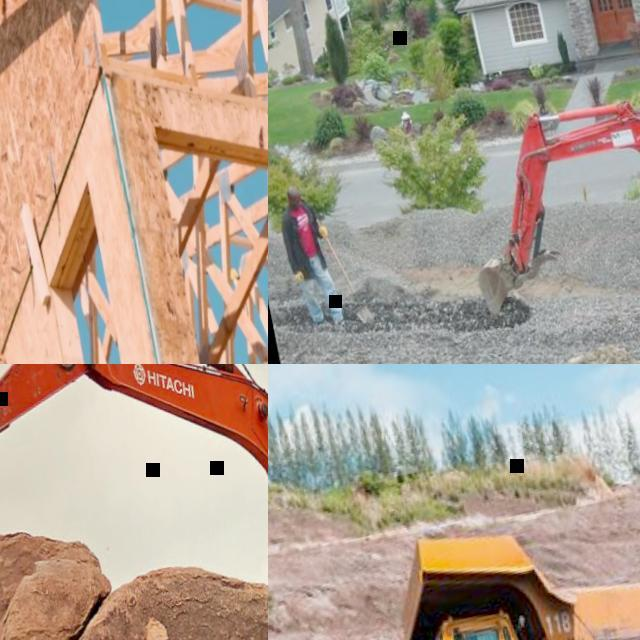vest: (288, 206, 322, 260)
